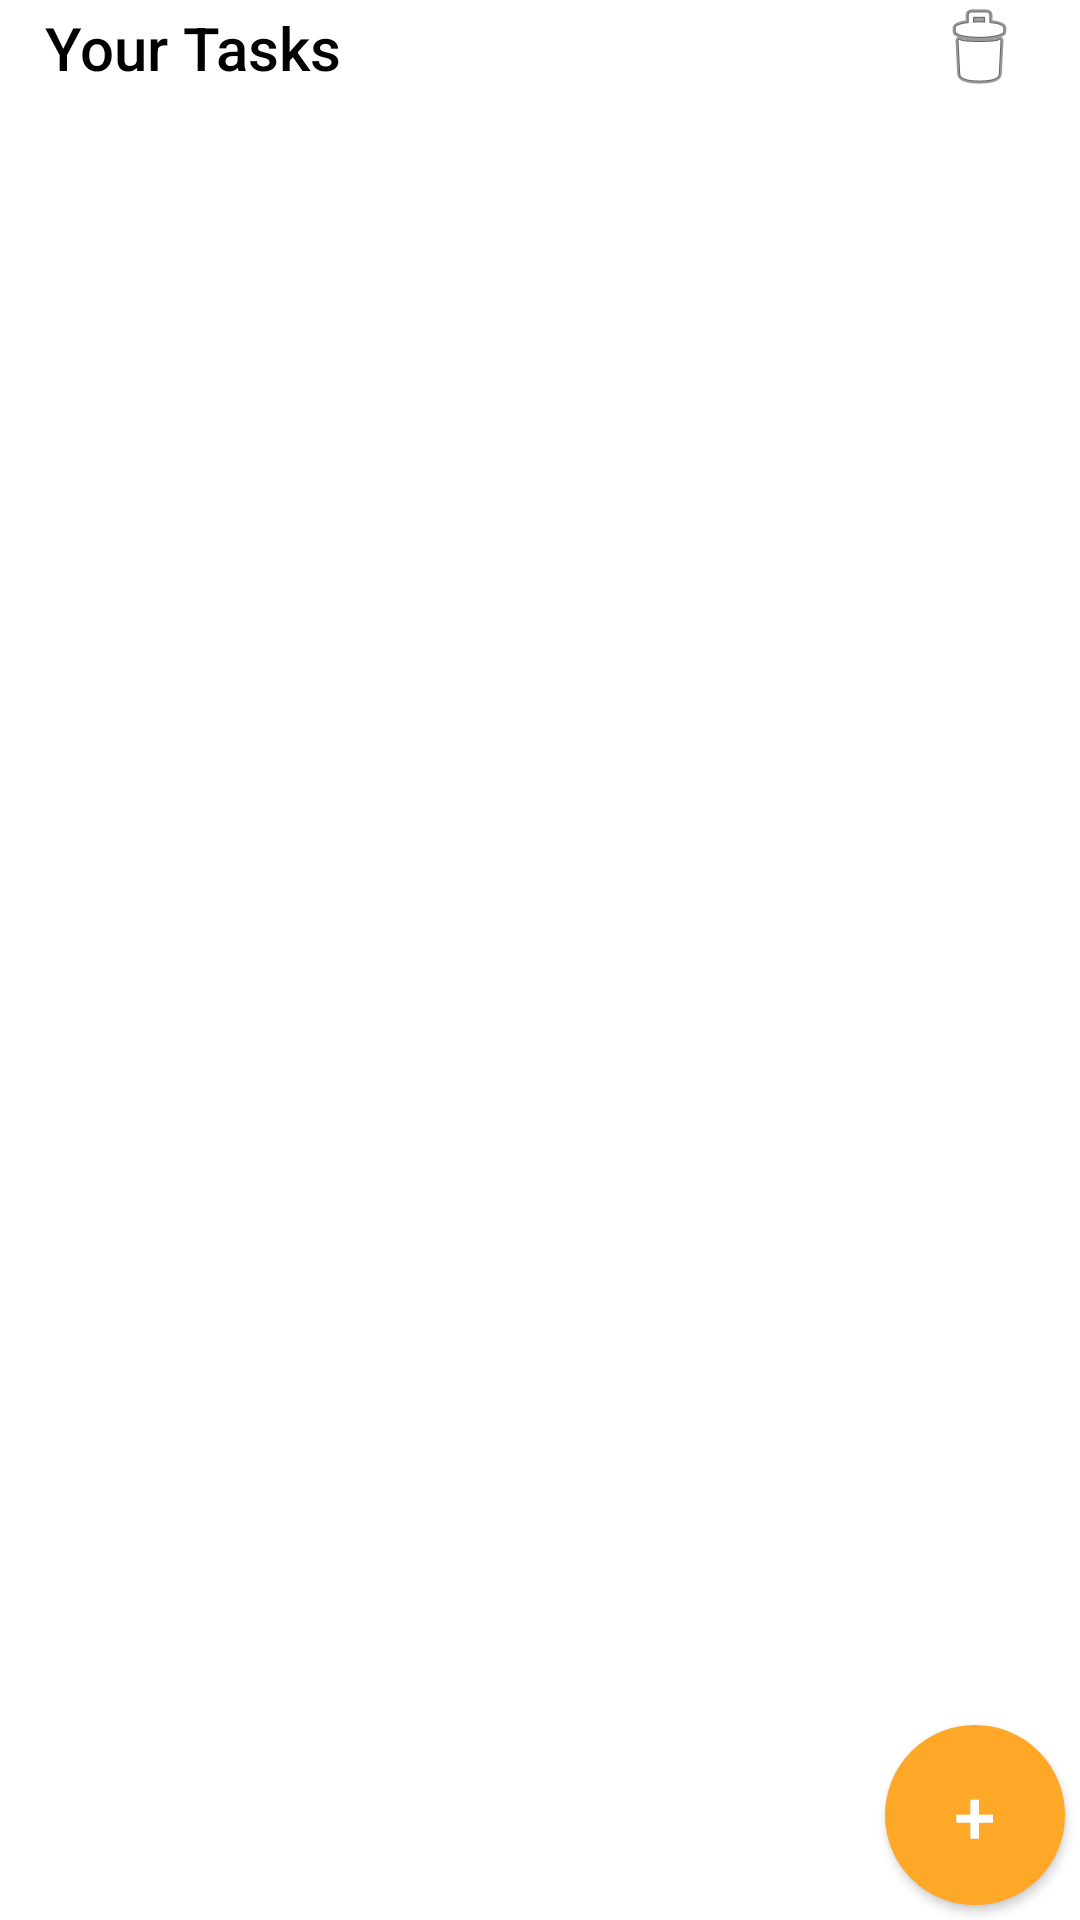

Screen size 1080 x 1920. Icon name, then its box in pixels as detection(x1, y1, x2, y2):
delete: detection(952, 9, 1007, 84)
